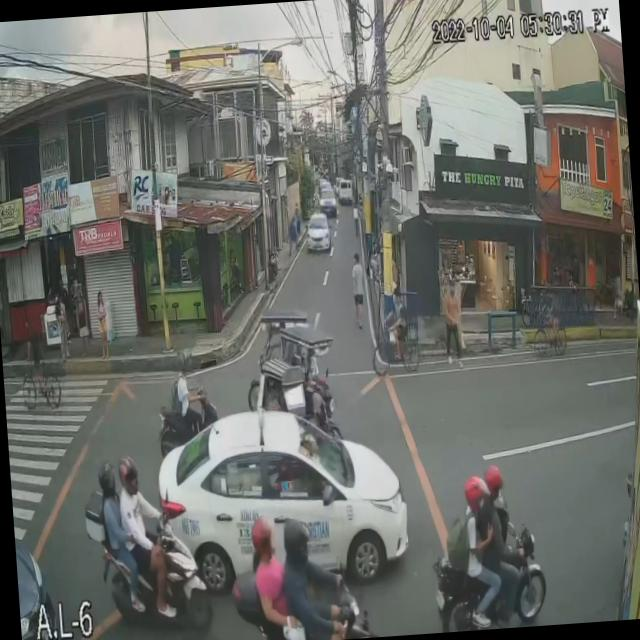full: (281, 514, 312, 566), (116, 456, 140, 496), (97, 460, 117, 496), (175, 347, 193, 378)
half: (462, 472, 491, 520), (248, 514, 277, 560), (483, 463, 506, 504)
